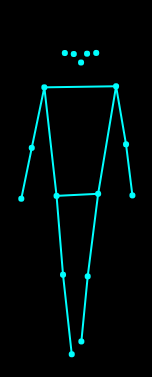mountain: (15, 46, 140, 361)
